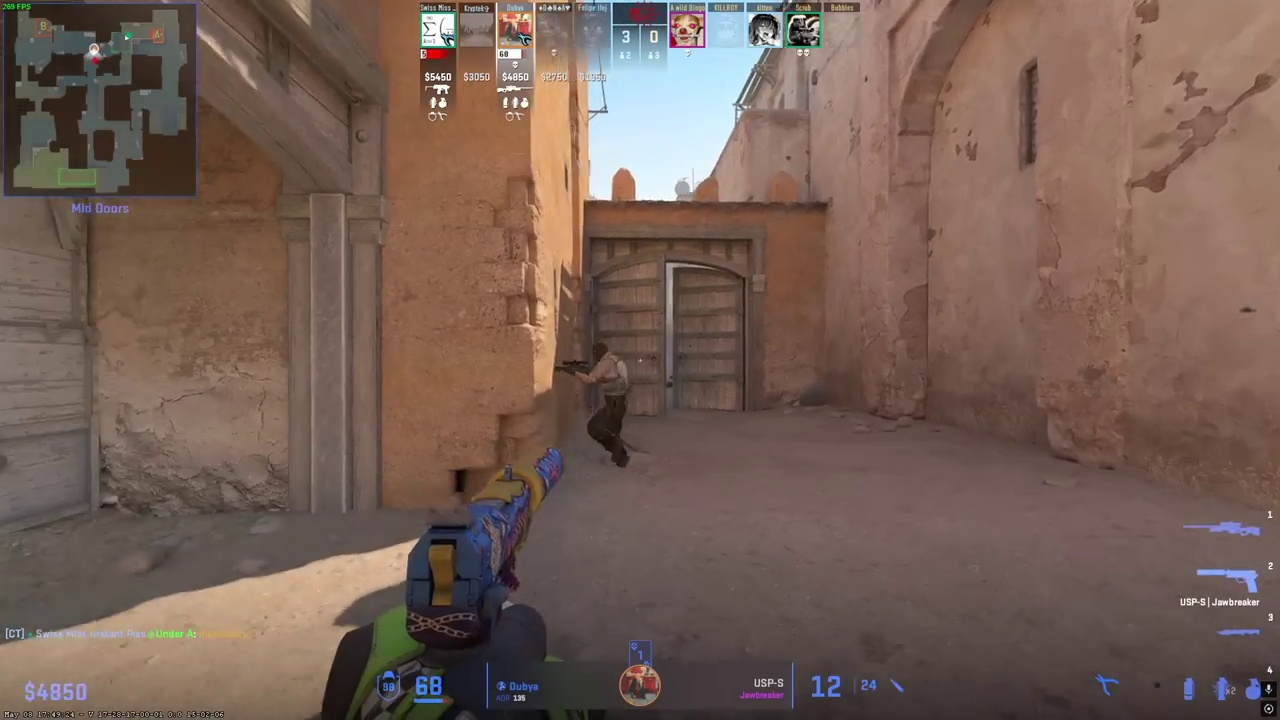Terrorist: (580, 341, 630, 468)
